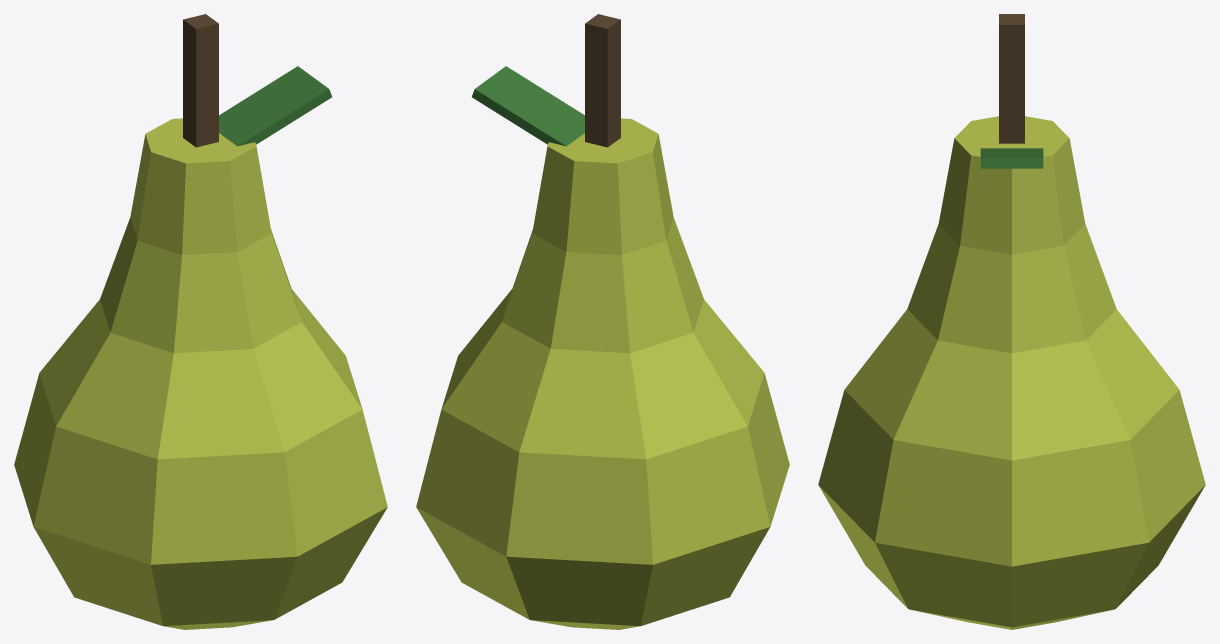
The model's file is FD_Pear_01.glb.
The picture shows the model from 3 angles, left to right: view 1: azimuth 30°, elevation 25°; view 2: azimuth 150°, elevation 25°; view 3: azimuth 270°, elevation 25°; orthographic projection.
Visible parts, largest first — view 1: FD_Pear_01; view 2: FD_Pear_01; view 3: FD_Pear_01.
Part boxes in pixels (x1,y1,x2,y2): FD_Pear_01: (14,14,387,629); FD_Pear_01: (416,14,789,629); FD_Pear_01: (818,14,1205,629).
Bounding box in the file's own units: 0.074 × 0.123 × 0.074.
Materials: 1 (1 with a texture image).
